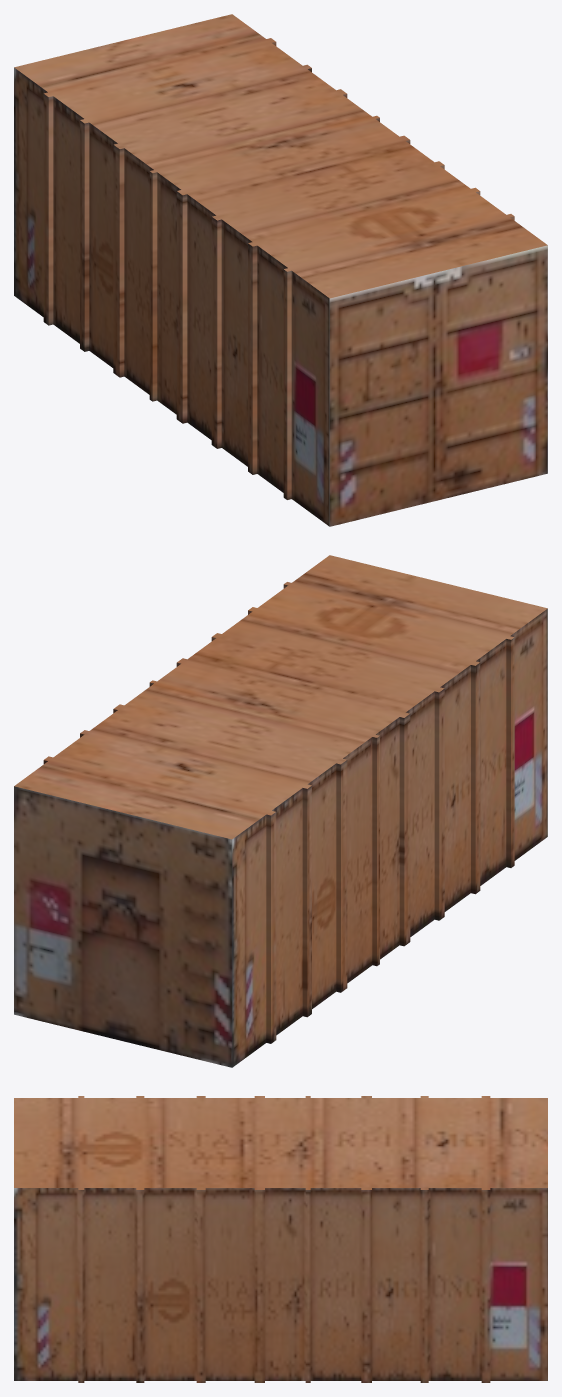
File: cargo_1.fbx
The picture shows the model from 3 angles, top to bottom: view 1: azimuth 30°, elevation 25°; view 2: azimuth 150°, elevation 25°; view 3: azimuth 270°, elevation 25°; orthographic projection. The views are drawn at different scales.
Visible parts, largest first — view 1: Cube; view 2: Cube; view 3: Cube.
Part boxes in pixels (x1,y1,x2,y2): Cube: (14,14,547,526); Cube: (14,555,547,1067); Cube: (14,1096,547,1382).
Bounding box in the file's own units: 245 × 235 × 589.
